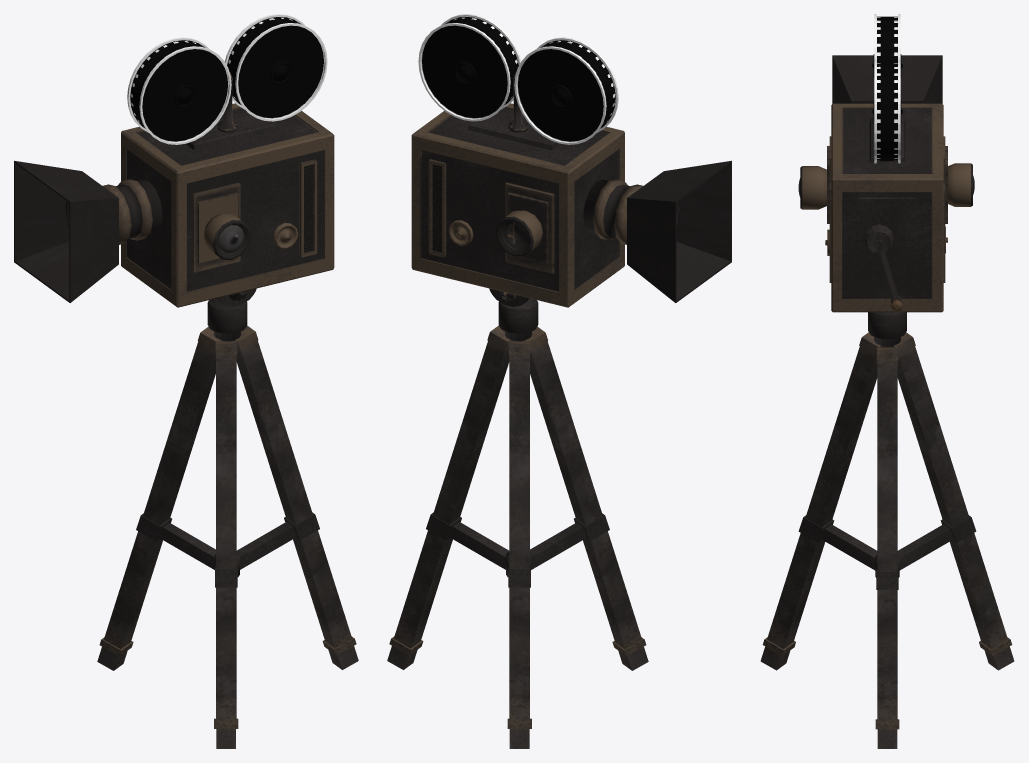
File: Camera.fbx
The picture shows the model from 3 angles, left to right: view 1: azimuth 30°, elevation 25°; view 2: azimuth 150°, elevation 25°; view 3: azimuth 270°, elevation 25°; orthographic projection.
Parts seen in each view (by area): view 1: Camera; view 2: Camera; view 3: Camera.
Boxes of the visible parts, x1=… form: Camera: x1=14, y1=14, x2=358, y2=748; Camera: x1=387, y1=14, x2=731, y2=748; Camera: x1=760, y1=14, x2=1014, y2=748.
Size of the model in its own units: 69.42 by 141 by 49.76.
